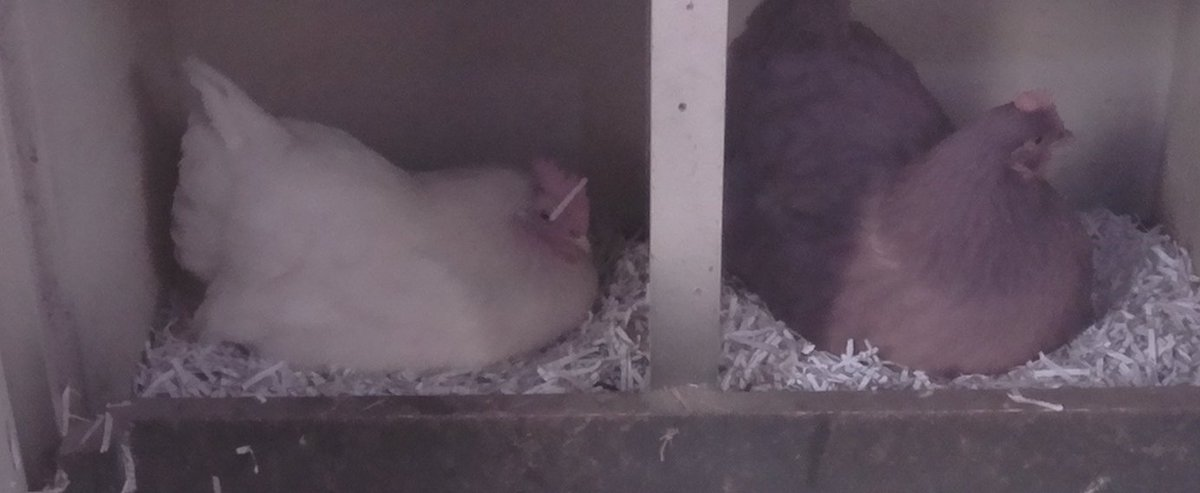hen: (729, 4, 1106, 380), (163, 57, 603, 378)
